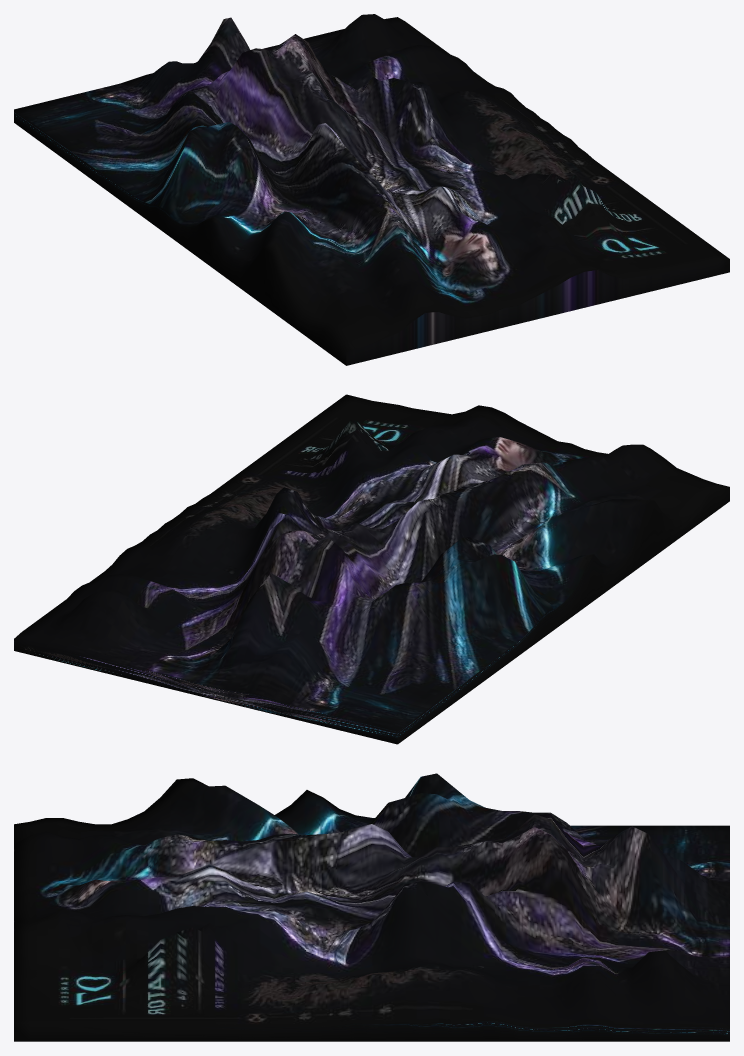
File: CAREER_07_Outfit_04_Master.glb
3 renders of one model, top to bottom at view 1: azimuth 30°, elevation 25°; view 2: azimuth 150°, elevation 25°; view 3: azimuth 270°, elevation 25°, orthographic. The views are drawn at different scales.
Parts seen in each view (by area): view 1: CAREER_07_Outfit_04_Master; view 2: CAREER_07_Outfit_04_Master; view 3: CAREER_07_Outfit_04_Master.
Part boxes in pixels (x1,y1,x2,y2): CAREER_07_Outfit_04_Master: [14, 14, 729, 365]; CAREER_07_Outfit_04_Master: [14, 394, 729, 744]; CAREER_07_Outfit_04_Master: [14, 773, 729, 1041].
Bounding box in the file's own units: 2 × 0.51 × 3.
1 material, 1 textured.
